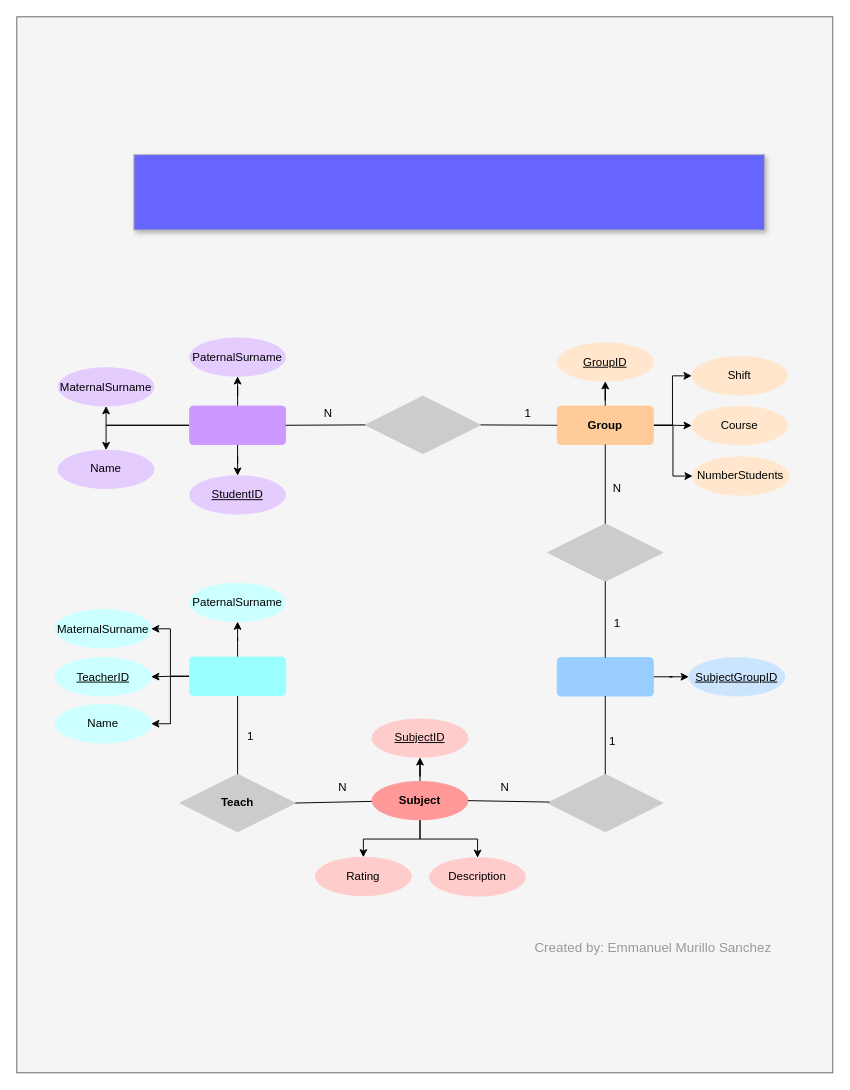
The diagram is 850 pixels wide and 1090 high, and some of its shapes have lost their labels. Here are the shapes that lost their labels. From the top down, the centre of each, then its label:
At (449,193): "School Control System".
At (237,424): "Student".
At (422,424): "Belong".
At (605,552): "Contain".
At (237,676): "Teacher".
At (604,676): "SubjectGroup".
At (605,802): "Have".
